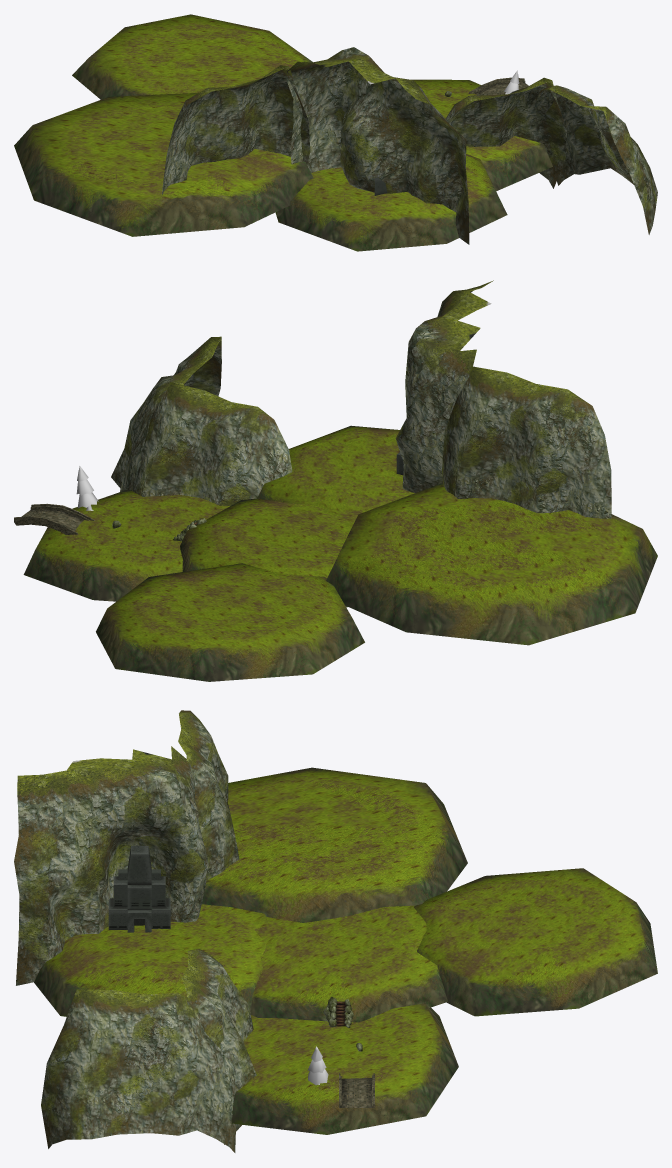
Rendered from ZonaVejetalM4.fbx.
3 renders of one model, top to bottom at view 1: azimuth 30°, elevation 25°; view 2: azimuth 150°, elevation 25°; view 3: azimuth 270°, elevation 25°, orthographic. The views are drawn at different scales.
Visible parts, largest first — view 1: SueloTierra3, m4_rocas, SueloTierra1, SueloTierra2, Colina, Colina1, Colina2, SueloTierra5, Puente; view 2: SueloTierra3, SueloTierra1, Colina, Colina2, SueloTierra5, SueloTierra, m4_rocas, SueloTierra2, Colina1, Puente; view 3: SueloTierra3, m4_rocas, SueloTierra1, Colina1, SueloTierra5, SueloTierra, SueloTierra2, Colina2, Colina, bunker_atomo1, Puente, Escaleras.
Boxes of the visible parts, box(x1,y1,x2,y2) form: SueloTierra3: box(14, 92, 313, 236); m4_rocas: box(287, 47, 469, 244); SueloTierra1: box(72, 14, 312, 99); SueloTierra2: box(275, 154, 507, 251); Colina: box(162, 65, 310, 195); Colina1: box(534, 85, 657, 234); Colina2: box(445, 77, 566, 188); SueloTierra5: box(411, 79, 552, 191); Puente: box(469, 77, 528, 94); SueloTierra3: box(326, 483, 657, 645); SueloTierra1: box(96, 563, 364, 681); Colina: box(442, 366, 611, 518); Colina2: box(131, 382, 292, 505); SueloTierra5: box(23, 490, 229, 601); SueloTierra: box(180, 498, 362, 607); m4_rocas: box(395, 280, 493, 492); SueloTierra2: box(257, 425, 414, 512); Colina1: box(111, 336, 221, 491); Puente: box(14, 503, 94, 534); SueloTierra3: box(201, 767, 467, 922); m4_rocas: box(14, 746, 208, 985); SueloTierra1: box(414, 868, 657, 1016); Colina1: box(41, 989, 235, 1152); SueloTierra5: box(231, 1003, 458, 1134); SueloTierra: box(250, 905, 447, 1022); SueloTierra2: box(34, 904, 268, 1016); Colina2: box(181, 949, 256, 1144); Colina: box(178, 710, 239, 880); bunker_atomo1: box(108, 845, 170, 932); Puente: box(339, 1073, 374, 1107); Escaleras: box(323, 996, 353, 1027).
Bounding box in the file's own units: 17.26 × 6.88 × 15.97.
